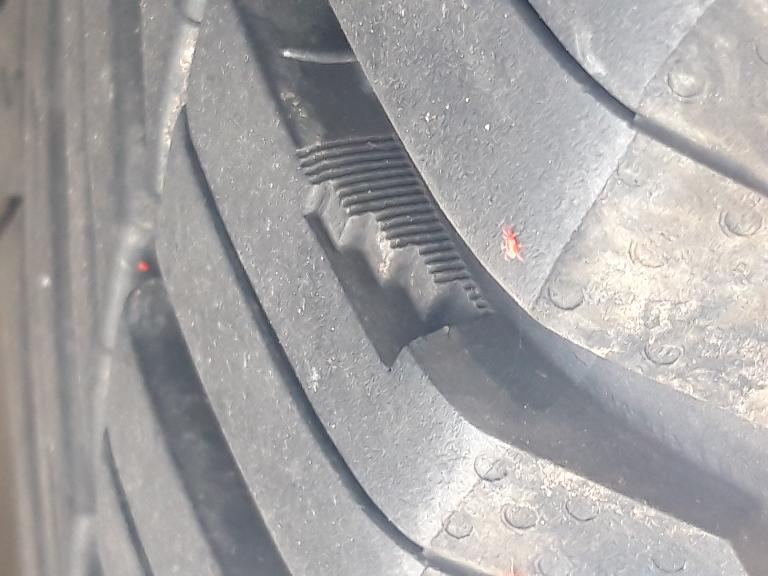temoin:90: (284, 123, 508, 382)
